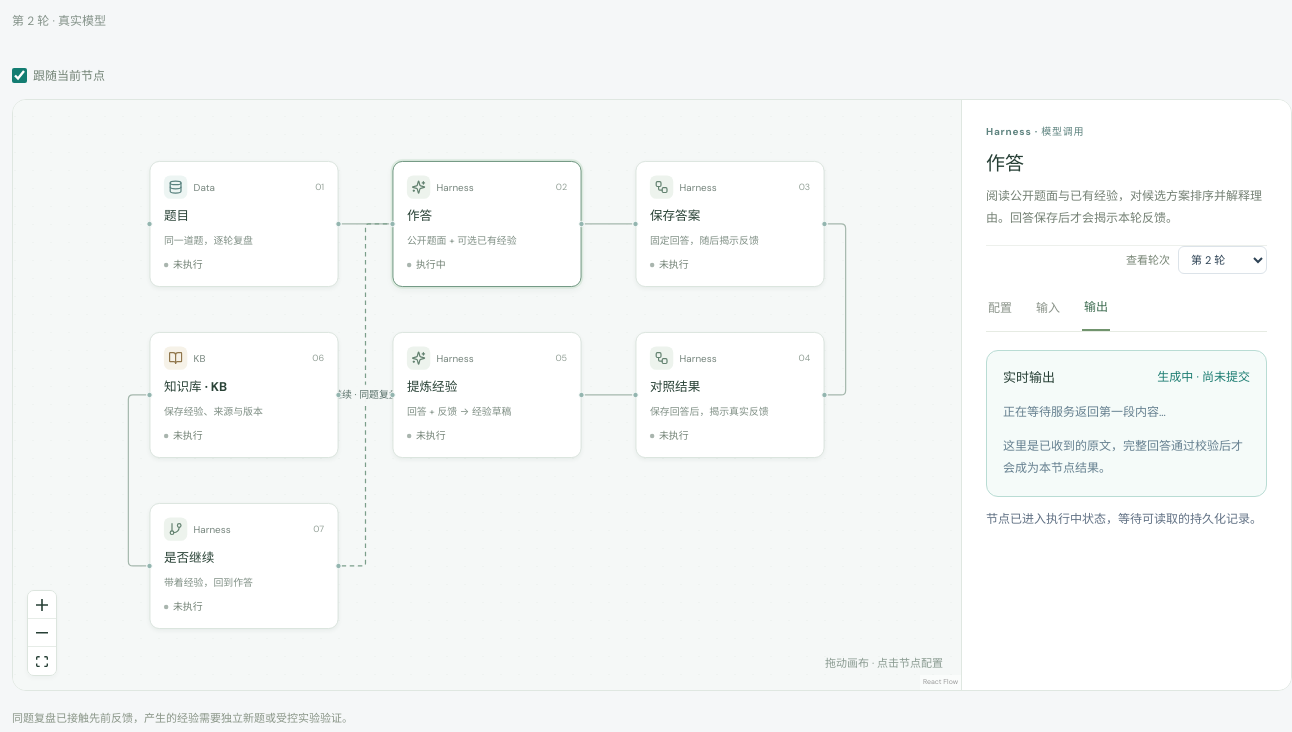
Test case: shows only the selected round and node output, with real SSE attribution
Click the button "Harness 02 作答 公开题面 + 可选已有经验 执行中".
click(487, 224)  # box [393, 162, 581, 286]
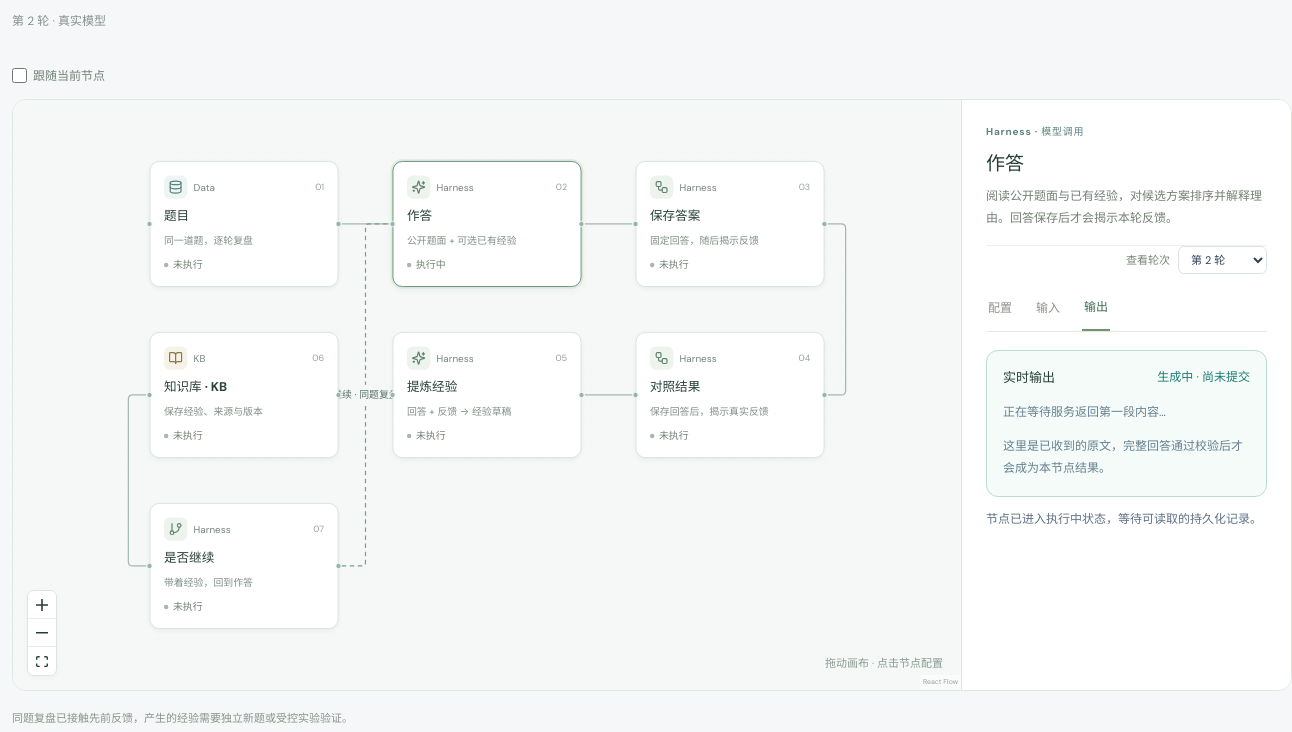
Click the tab "输出".
click(1096, 309)  # box [1082, 286, 1110, 331]
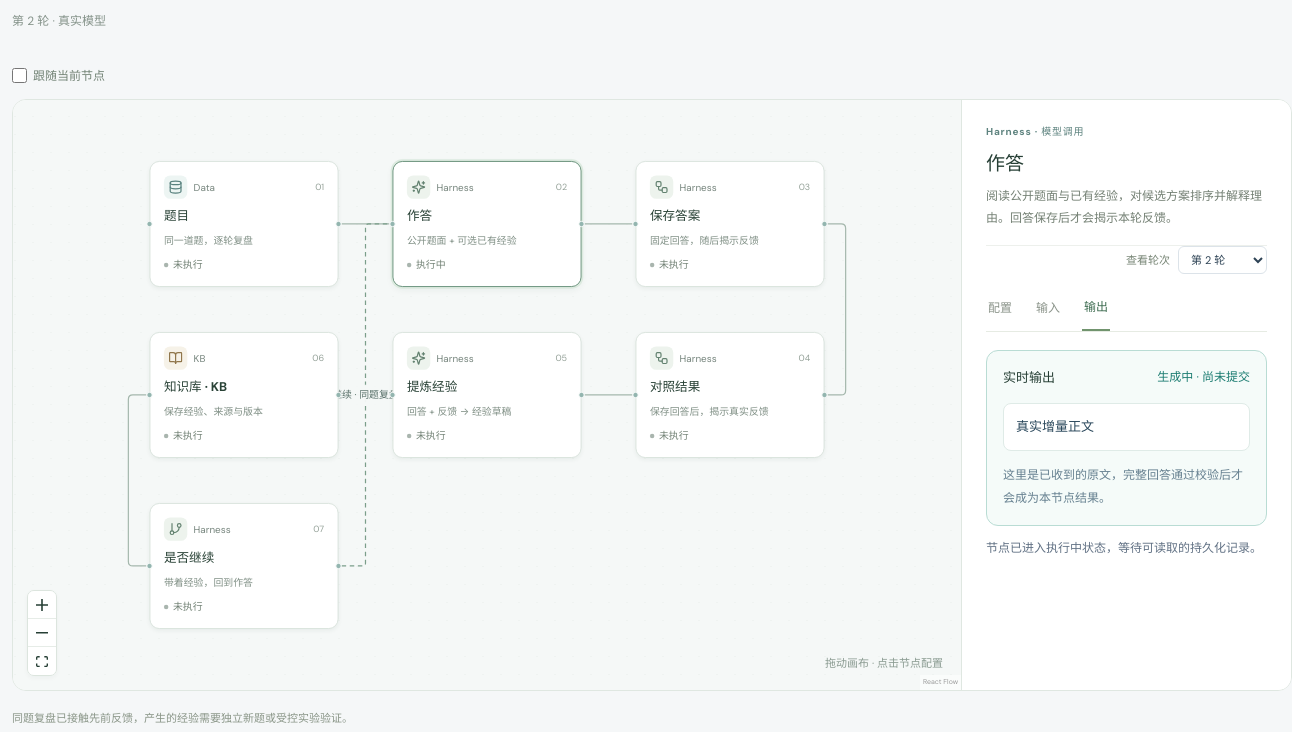
Expected: the text "真实增量正文" is shown, [1003, 403, 1250, 451]
Click the button "Harness 04 对照结果 保存回答后，揭示真实反馈 未执行".
click(730, 395)  # box [636, 333, 824, 457]
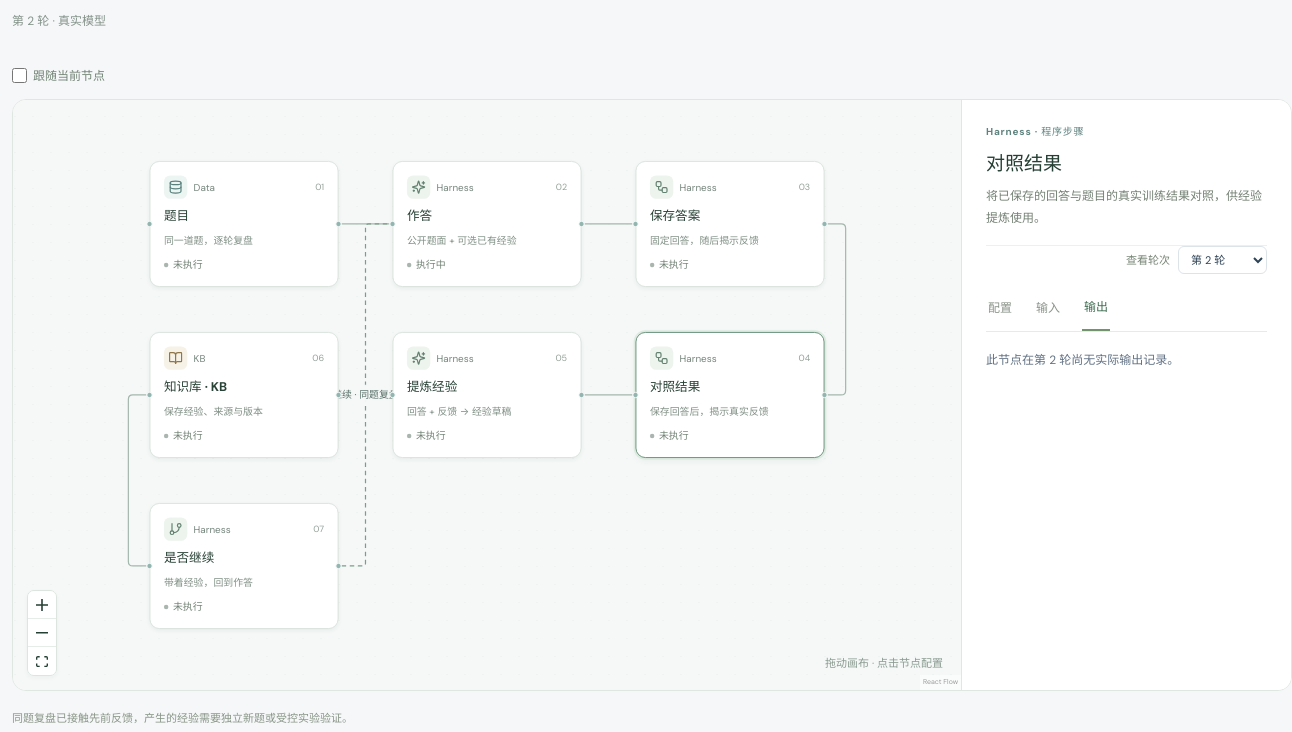
Expected: the text "真实增量正文" is gone
